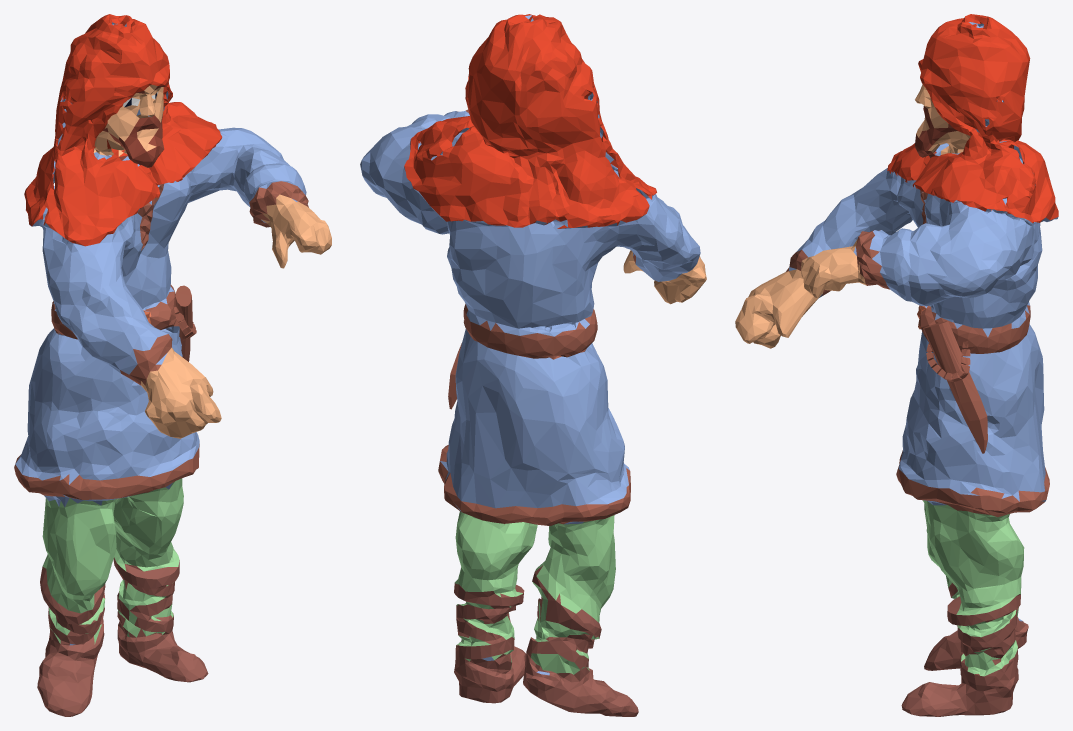
File: MasterFarmer_Thoralf.fbx
3 views of the same model, side by side, from view 1: azimuth 30°, elevation 25°; view 2: azimuth 150°, elevation 25°; view 3: azimuth 270°, elevation 25° (orthographic). The views are drawn at different scales.
Visible parts, largest first — view 1: MainBody; view 2: MainBody; view 3: MainBody.
Boxes of the visible parts, x1,y1,x2,y2 form: MainBody: [14, 14, 331, 716]; MainBody: [360, 14, 706, 716]; MainBody: [735, 14, 1058, 716].
Bounding box in the file's own units: 1056 × 2533 × 1086.
